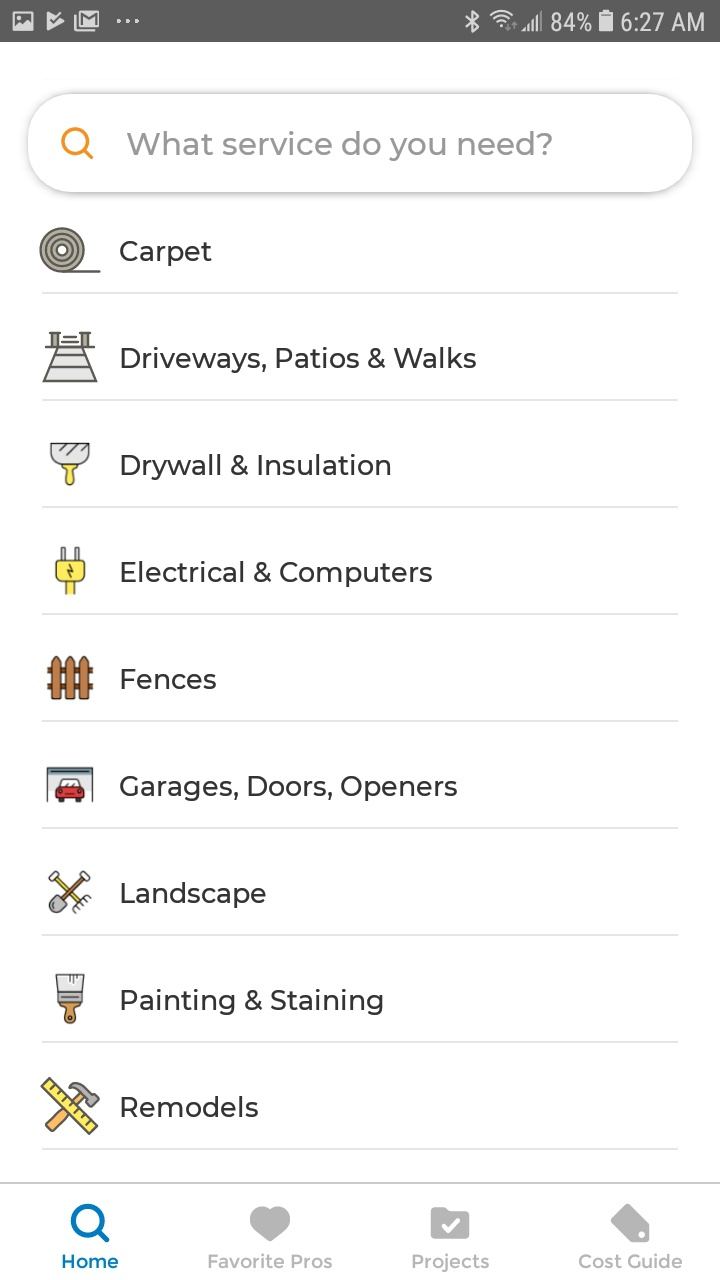EditText: (28, 94, 693, 194)
Icon: (71, 1203, 111, 1243), (611, 1204, 650, 1243), (250, 1205, 291, 1242), (431, 1206, 470, 1239), (62, 127, 95, 160)
Image: (41, 1077, 102, 1136), (42, 332, 99, 384), (40, 227, 102, 274), (47, 656, 94, 701), (48, 870, 93, 915), (50, 443, 91, 487), (46, 767, 94, 804), (55, 547, 87, 596), (56, 973, 86, 1024)
Text: (127, 131, 552, 163), (121, 347, 477, 374), (121, 776, 458, 802), (122, 561, 433, 588), (122, 454, 391, 481), (122, 989, 384, 1016), (121, 882, 267, 909), (122, 1096, 259, 1118), (121, 241, 213, 267), (121, 669, 217, 690), (209, 1253, 333, 1269), (579, 1252, 683, 1268), (413, 1252, 490, 1272), (63, 1254, 119, 1269)
UpperTaskBar: (1, 1, 720, 43)
